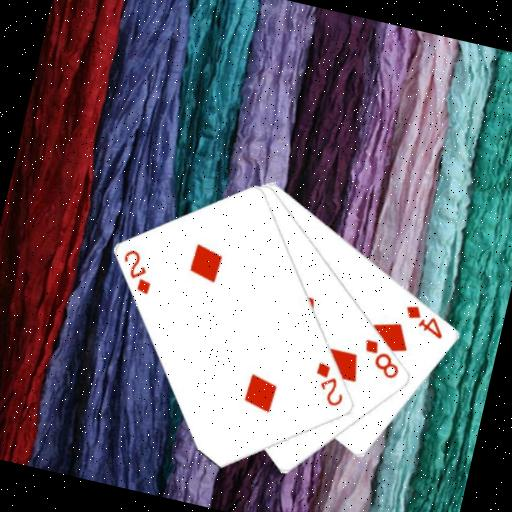2D: (307, 358, 353, 411), (114, 244, 160, 297)
4D: (398, 300, 450, 342)
8D: (355, 336, 407, 383)
